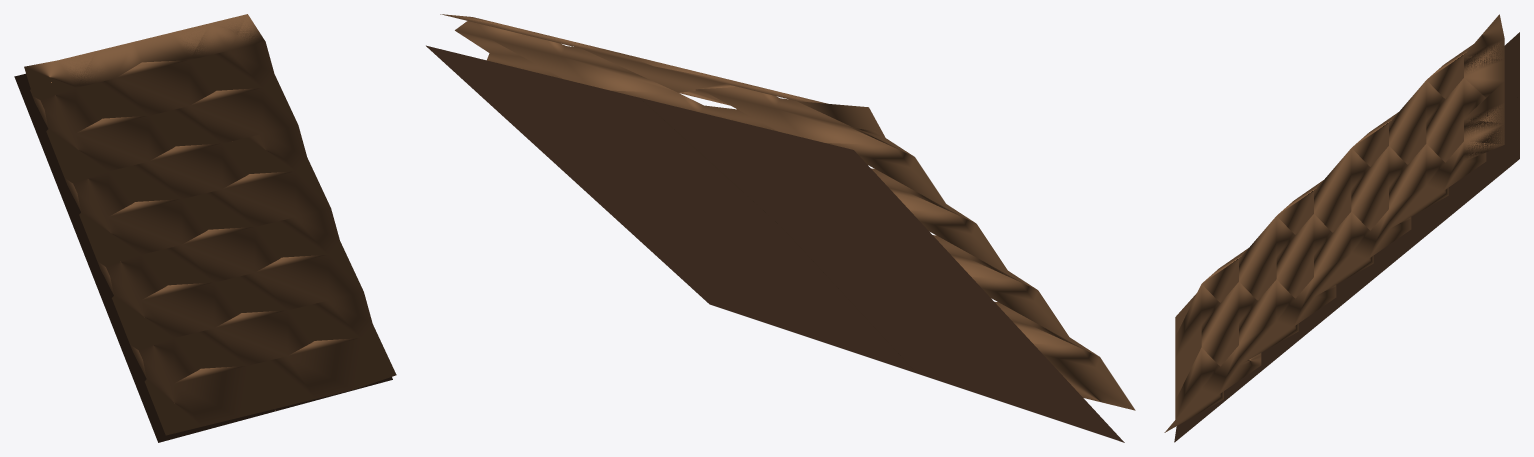
Rendered from roof_shingle_lod1.glb.
3 views of the same model, side by side, from view 1: azimuth 30°, elevation 25°; view 2: azimuth 150°, elevation 25°; view 3: azimuth 270°, elevation 25° (orthographic). The views are drawn at different scales.
Bounding box in the file's own units: 2.1 × 2.44 × 2.48.
